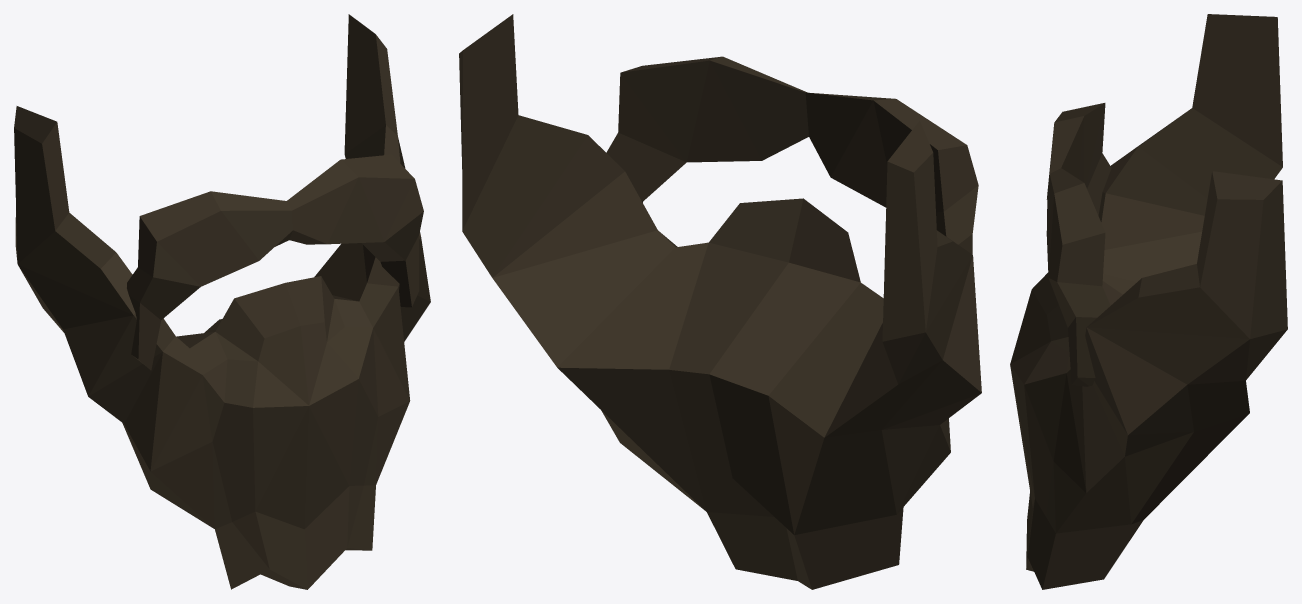
File: SM_Chr_Attach_Beard_06.fbx
3 views of the same model, side by side, from view 1: azimuth 30°, elevation 25°; view 2: azimuth 150°, elevation 25°; view 3: azimuth 270°, elevation 25° (orthographic). The views are drawn at different scales.
Parts seen in each view (by area): view 1: SM_Chr_Attach_Beard_06, SM_Chr_Attach_Beard_06_Mustache; view 2: SM_Chr_Attach_Beard_06, SM_Chr_Attach_Beard_06_Mustache; view 3: SM_Chr_Attach_Beard_06, SM_Chr_Attach_Beard_06_Mustache.
Part boxes in pixels (<box>): SM_Chr_Attach_Beard_06: <box>14,14,430,589</box>; SM_Chr_Attach_Beard_06_Mustache: <box>127,154,423,370</box>; SM_Chr_Attach_Beard_06: <box>459,14,981,589</box>; SM_Chr_Attach_Beard_06_Mustache: <box>606,56,978,254</box>; SM_Chr_Attach_Beard_06: <box>1010,14,1287,589</box>; SM_Chr_Attach_Beard_06_Mustache: <box>1046,103,1111,386</box>.
Bounding box in the file's own units: 23.18 × 28.14 × 14.48.
